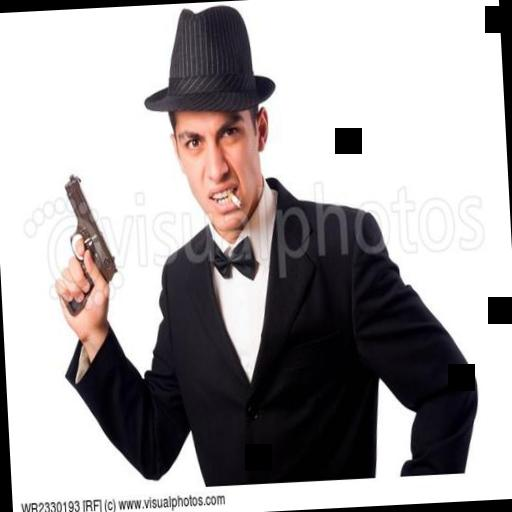Handgun: (44, 172, 120, 318)
